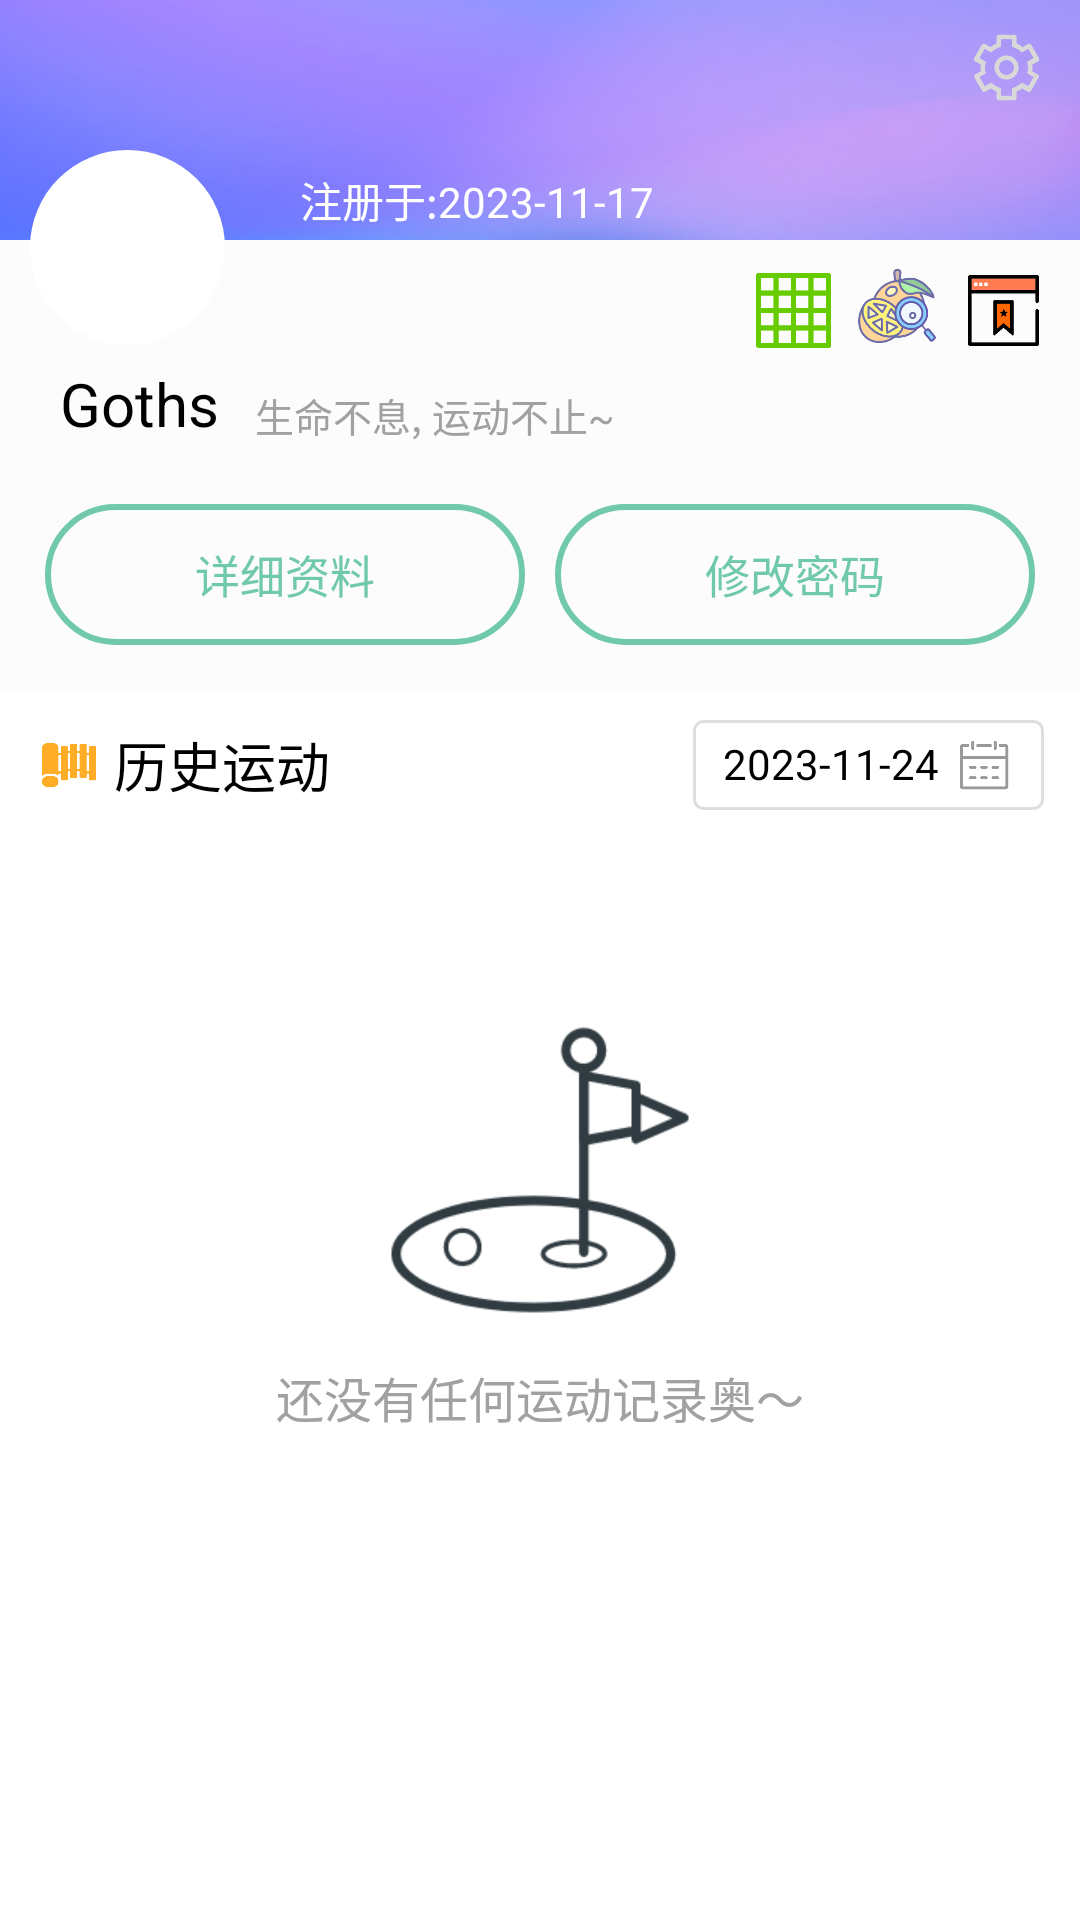

Icons on this 1080w x 1920h Android screen, each with its box as [left=x1, top=y1, right=x2, bottom=y2]:
calorie: [left=858, top=269, right=936, bottom=343]
date: [left=960, top=741, right=1008, bottom=790]
goto group: [left=756, top=273, right=831, bottom=348]
setting: [left=969, top=30, right=1044, bottom=101]
star: [left=968, top=275, right=1039, bottom=346]
